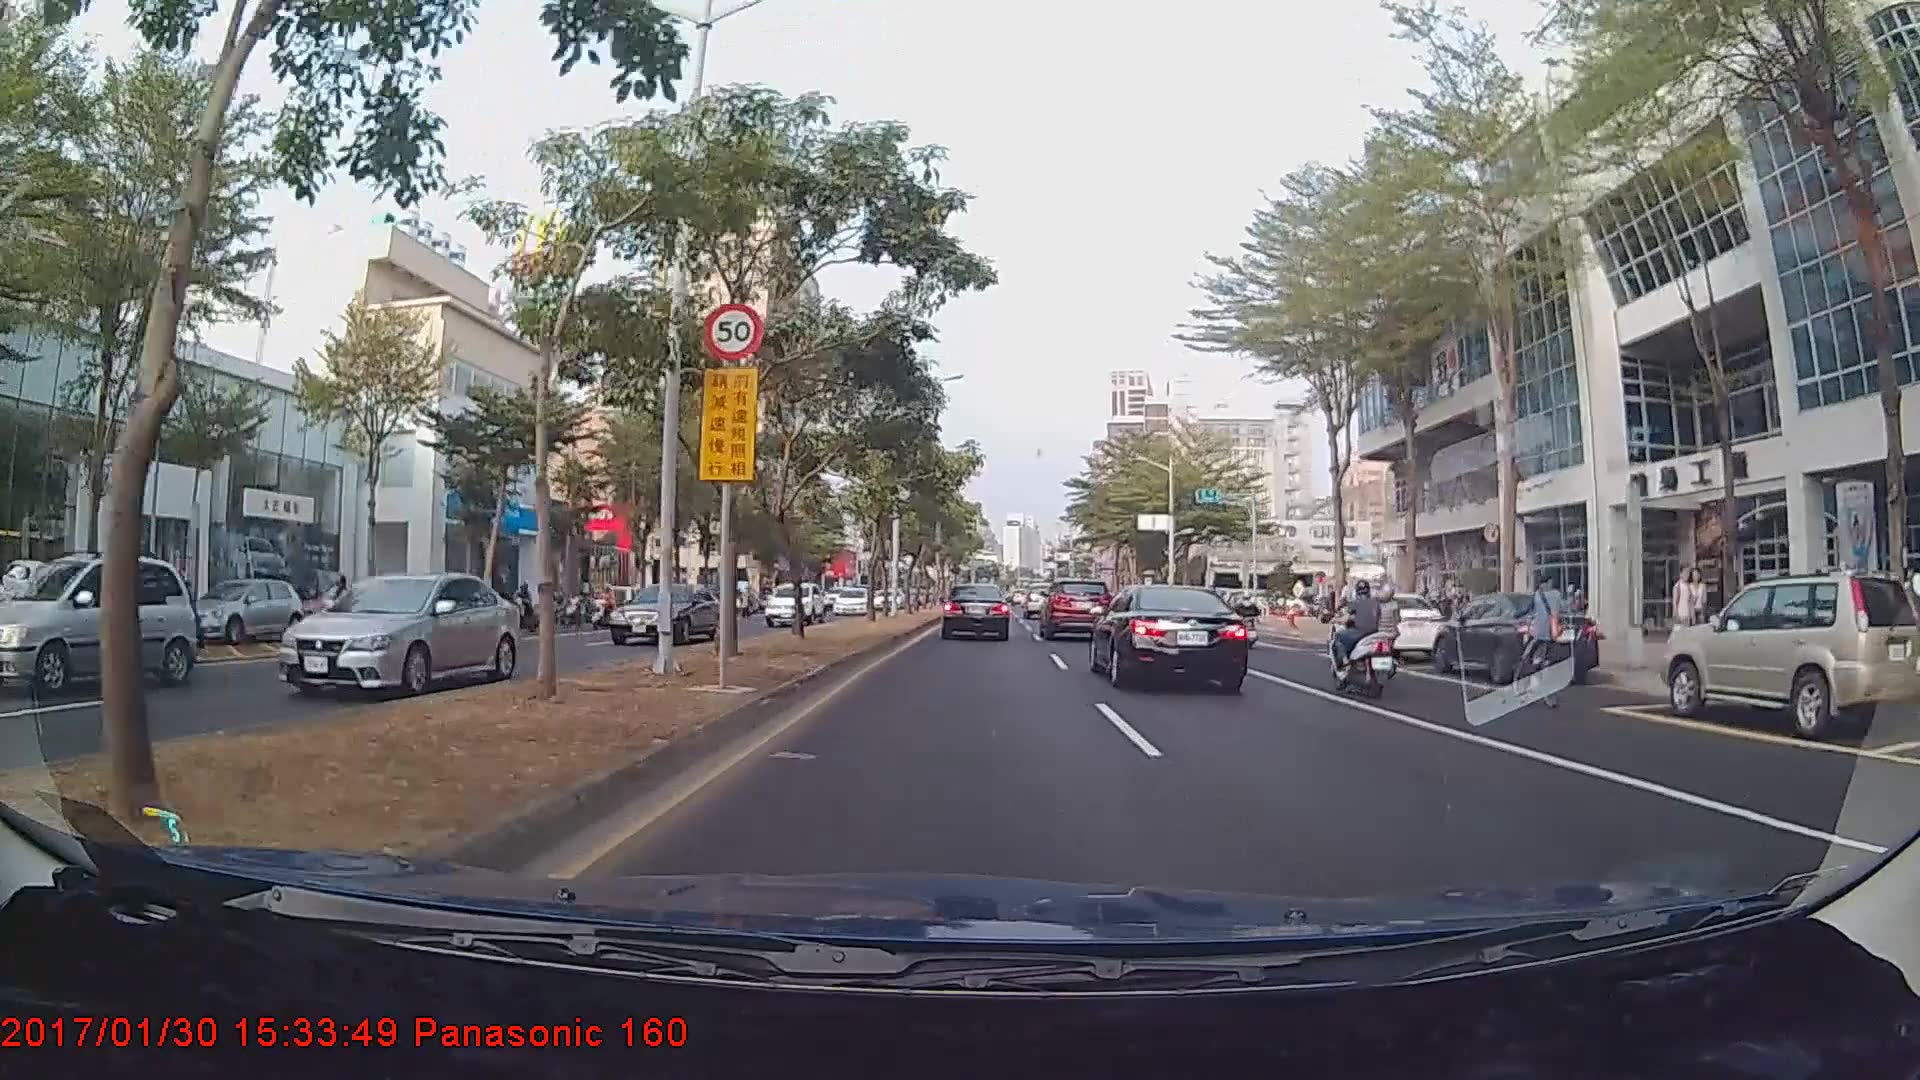pedestrian: (1673, 567, 1698, 657), (1688, 569, 1711, 656)
rider: (1503, 572, 1579, 714), (1324, 576, 1406, 703), (1366, 582, 1416, 680), (1232, 593, 1263, 639)
vehicle: (1657, 572, 1920, 737), (273, 570, 521, 698), (0, 550, 200, 695), (1089, 577, 1252, 694), (1429, 586, 1597, 682), (1326, 591, 1452, 666), (182, 577, 305, 645), (605, 577, 723, 644), (942, 581, 1012, 641), (1039, 579, 1107, 639), (761, 582, 824, 627), (1022, 581, 1061, 618), (832, 588, 868, 616)
